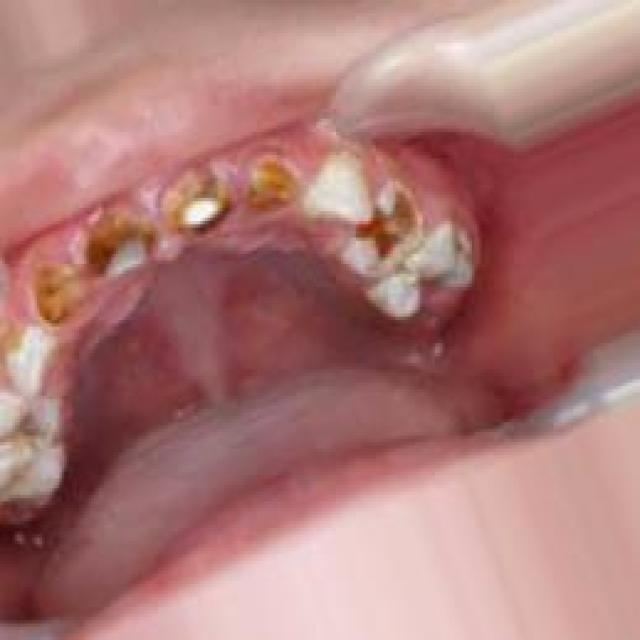caries: (345, 180, 430, 274), (161, 167, 237, 250), (80, 205, 156, 282), (237, 151, 310, 229), (25, 254, 91, 336), (0, 312, 34, 373)
